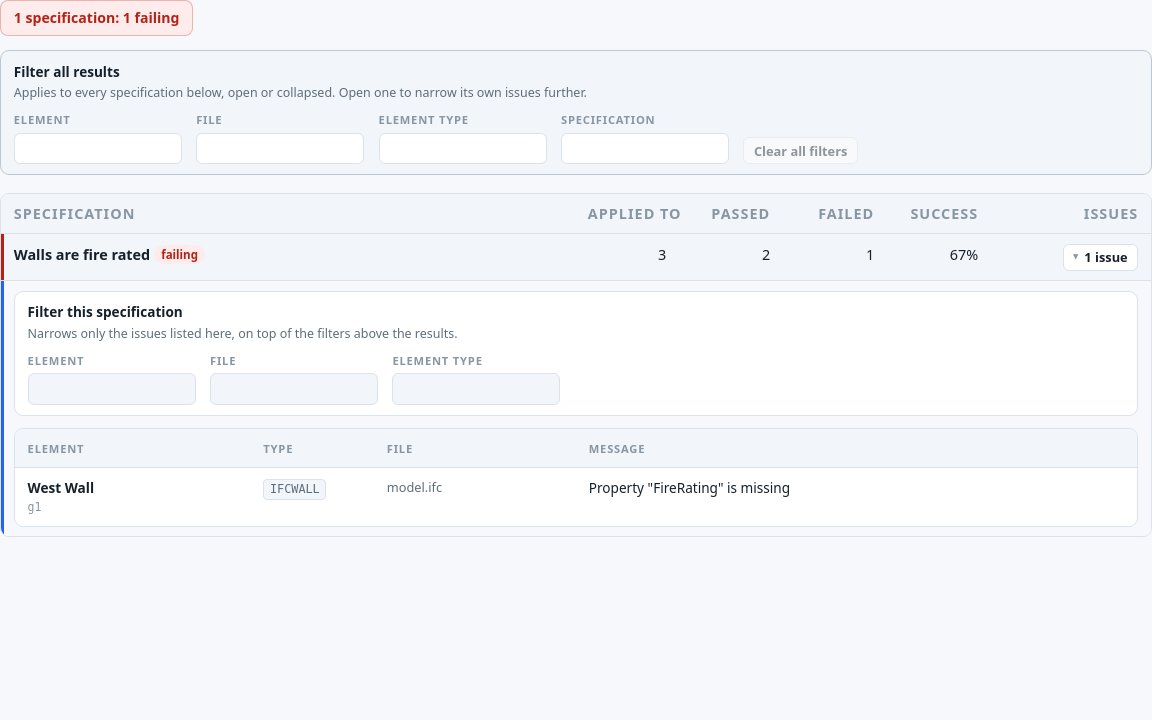
Test: CheckSummary › collapses and re-expands a specification's issues on request
The width and height of the screenshot is (1152, 720).
Click the button with aria-label "Hide 1 issue" at (1101, 257), box [1063,244,1138,271]
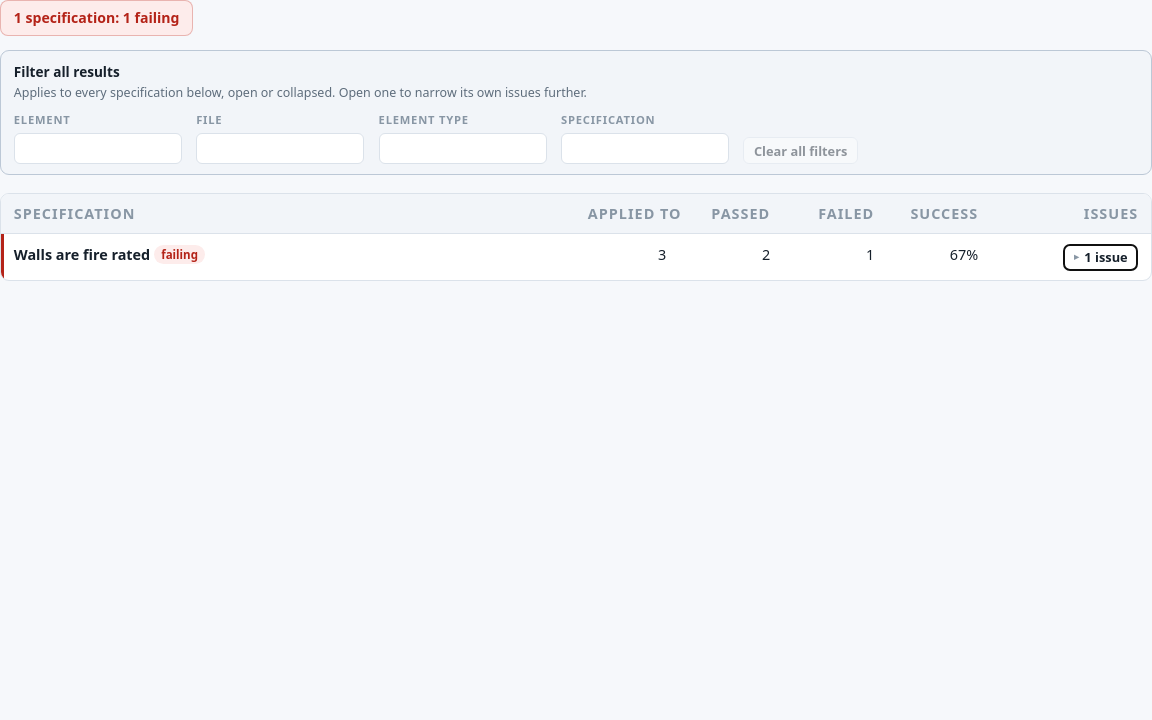
Expected: the text "West Wall" is gone
Click the button with aria-label "Show 1 issue" at (1101, 257), box [1063,244,1138,271]
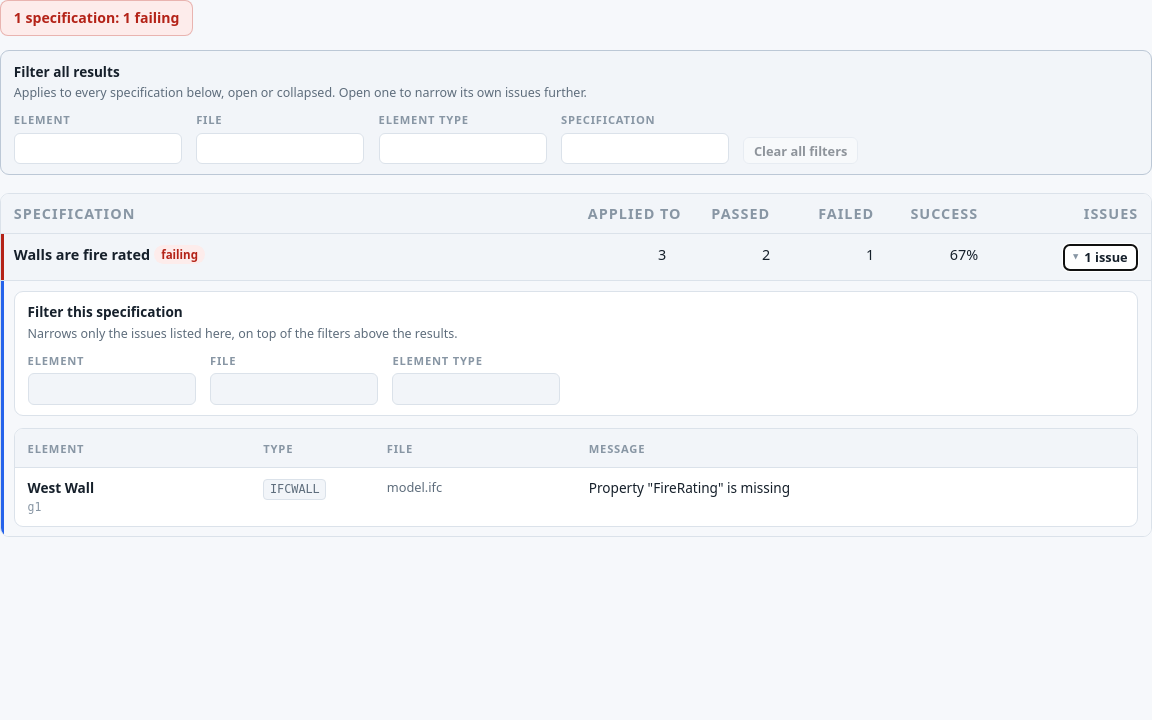
Expected: the text "West Wall" is shown, [28,478,94,498]
